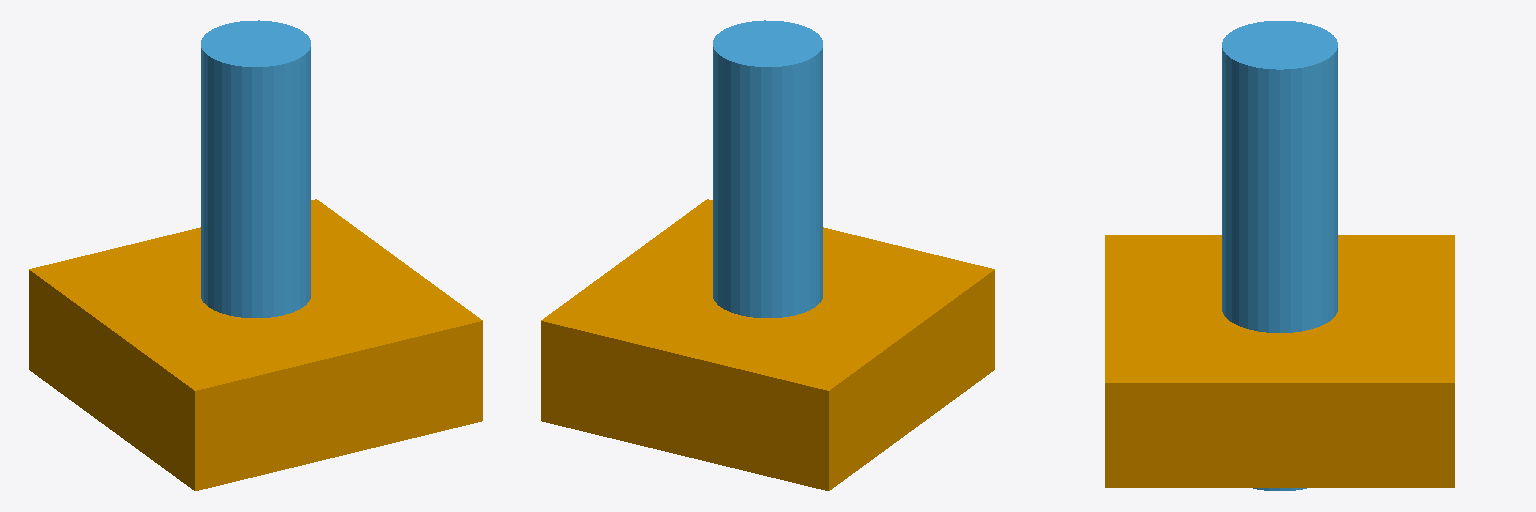
robot.urdf — clean-urdf-bot:
<?xml version="1.0"?>
<!-- A minimal, fully-inertialed URDF so libsdformat's URDF->SDF (gz sdf -p) yields a CLEAN model
     (links without <inertial> are silently dropped by libsdformat). Used by tests/test_sdf_io.py. -->
<robot name="clean-urdf-bot">
  <link name="base">
    <inertial>
      <mass value="2.0"/>
      <origin xyz="0 0 0.1" rpy="0 0 0"/>
      <inertia ixx="0.1" ixy="0" ixz="0" iyy="0.1" iyz="0" izz="0.1"/>
    </inertial>
    <visual>
      <geometry><box size="0.3 0.3 0.1"/></geometry>
    </visual>
    <collision>
      <geometry><box size="0.3 0.3 0.1"/></geometry>
    </collision>
  </link>
  <link name="link1">
    <inertial>
      <mass value="0.5"/>
      <origin xyz="0 0 0.2" rpy="0 0 0"/>
      <inertia ixx="0.01" ixy="0" ixz="0" iyy="0.01" iyz="0" izz="0.01"/>
    </inertial>
    <visual>
      <geometry><cylinder radius="0.05" length="0.4"/></geometry>
    </visual>
  </link>
  <joint name="joint1" type="revolute">
    <parent link="base"/>
    <child link="link1"/>
    <origin xyz="0 0 0.1" rpy="0 0 0"/>
    <axis xyz="0 0 1"/>
    <limit lower="-1.5" upper="1.5" effort="10" velocity="2"/>
  </joint>
</robot>

--- Facts derived from the render (not from the file) ---
The picture shows the robot from 3 angles, left to right: view 1: azimuth 30°, elevation 25°; view 2: azimuth 150°, elevation 25°; view 3: azimuth 270°, elevation 25°; orthographic projection.
Model clean-urdf-bot with 2 links and 1 joints (1 revolute), rooted at base, posed every joint at zero.
Visible links, largest first — view 1: base, link1; view 2: base, link1; view 3: base, link1.
Boxes of the visible links, <box> form: base: <box>29,199,482,490</box>; link1: <box>201,20,310,317</box>; base: <box>541,199,994,490</box>; link1: <box>713,20,822,317</box>; base: <box>1105,235,1454,487</box>; link1: <box>1222,21,1337,490</box>.
Bounding box of the posed robot: 0.3 × 0.3 × 0.4 m (x, y, z).
Geometry: primitives only (box / cylinder / sphere), no mesh files.
